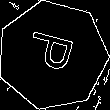P_E: (23, 31, 82, 80)
